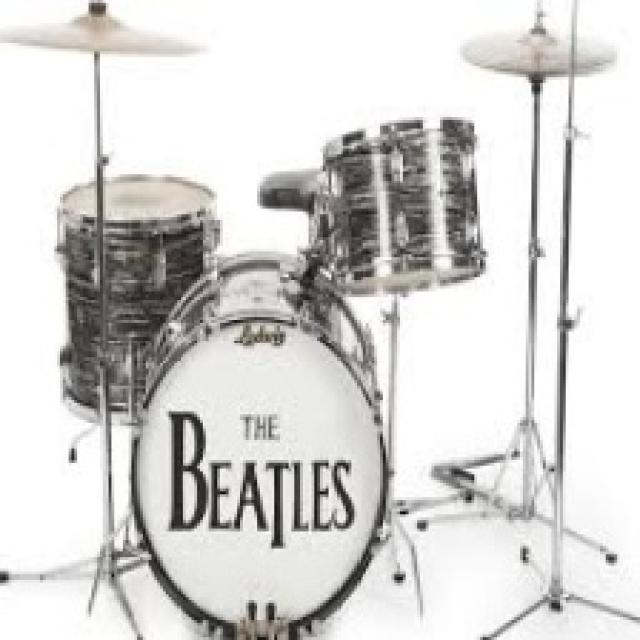drums: (0, 1, 604, 633)
